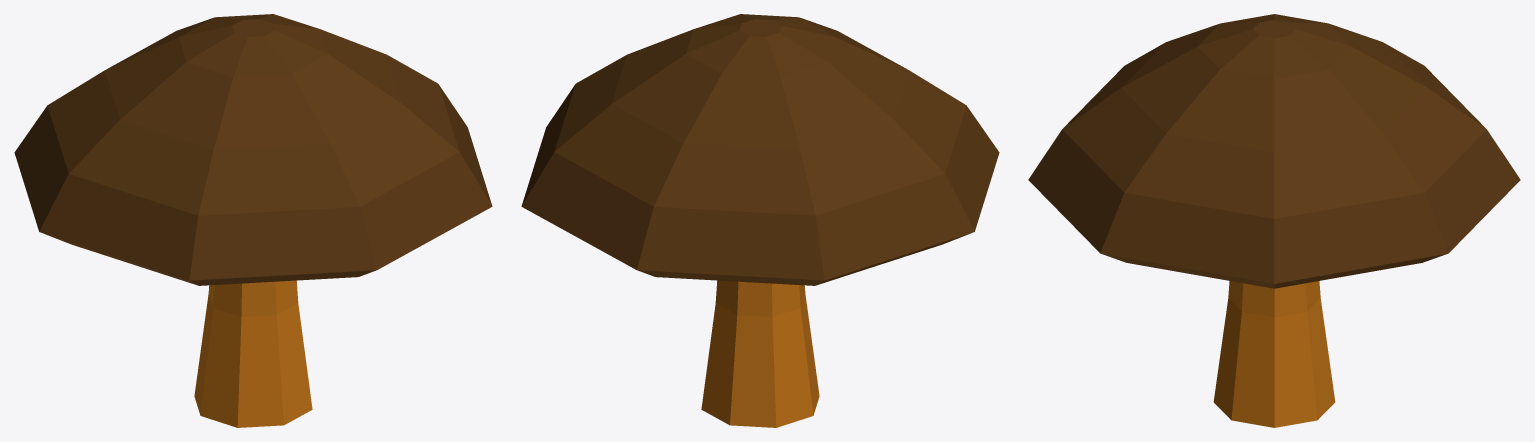
File: Mushroom.fbx
3 renders of one model, left to right at view 1: azimuth 30°, elevation 25°; view 2: azimuth 150°, elevation 25°; view 3: azimuth 270°, elevation 25°, orthographic.
Parts seen in each view (by area): view 1: Circle; view 2: Circle; view 3: Circle.
Boxes of the visible parts, left/top/right/bottom form: Circle: left=14, top=14, right=492, bottom=427; Circle: left=521, top=14, right=999, bottom=427; Circle: left=1028, top=14, right=1520, bottom=427.
Bounding box in the file's own units: 11.07 × 9.26 × 11.07.
